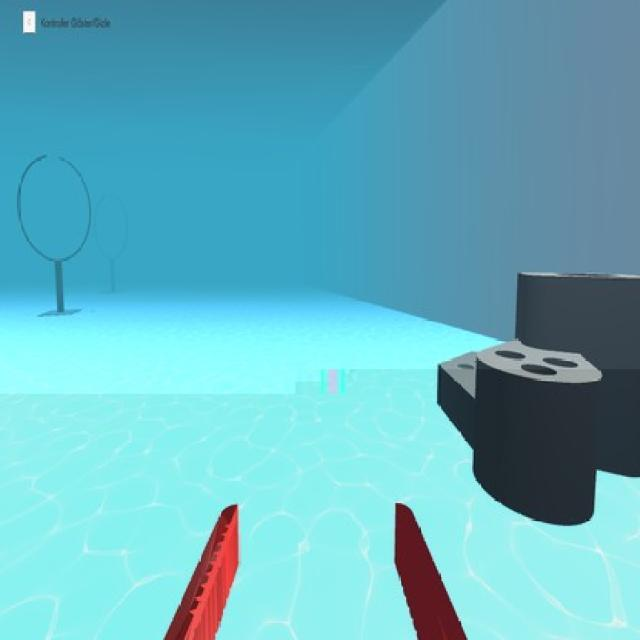Circle: (15, 147, 91, 270)
